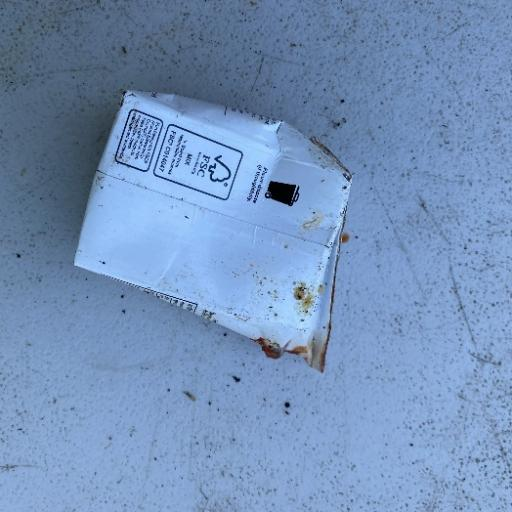Cardboard: (71, 88, 355, 373)
